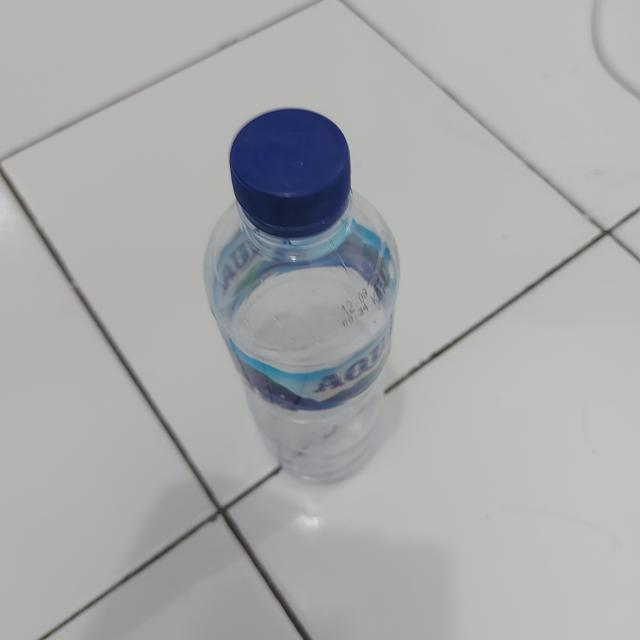Anorganik: (202, 107, 398, 489)
